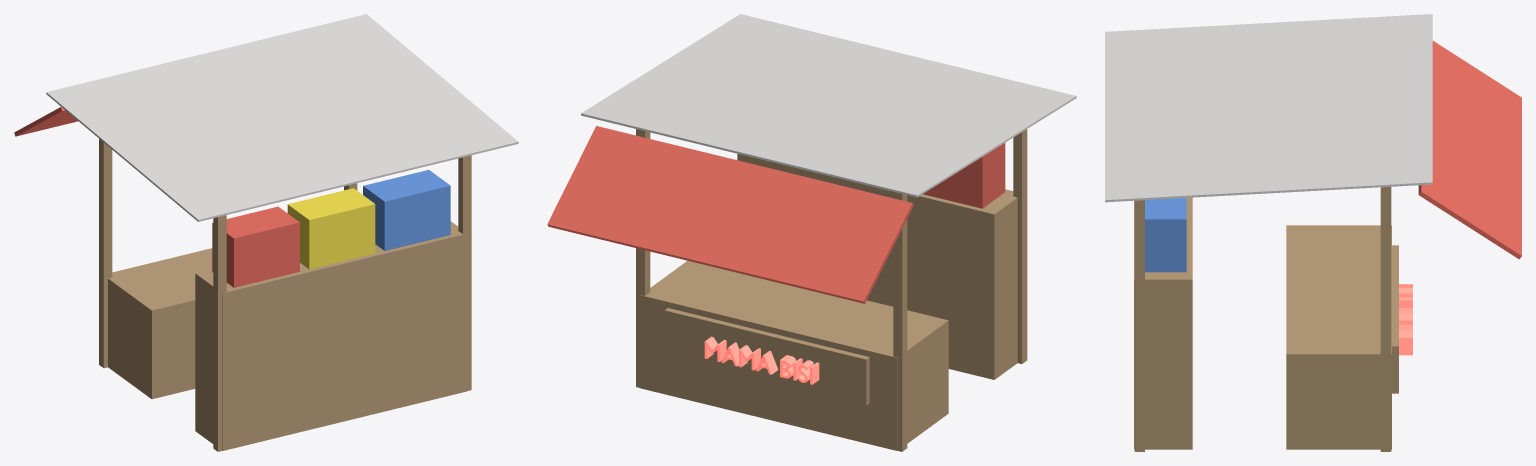
File: market_stall.glb
3 renders of one model, left to right at view 1: azimuth 30°, elevation 25°; view 2: azimuth 150°, elevation 25°; view 3: azimuth 270°, elevation 25°, orthographic. The views are drawn at different scales.
Visible parts, largest first — view 1: BLD_market_stall; view 2: BLD_market_stall; view 3: BLD_market_stall.
Boxes of the visible parts, x1=… form: BLD_market_stall: x1=14, y1=14, x2=518, y2=451; BLD_market_stall: x1=547, y1=14, x2=1076, y2=451; BLD_market_stall: x1=1105, y1=14, x2=1521, y2=451.
Bounding box in the file's own units: 3.4 × 2.7 × 3.56.
